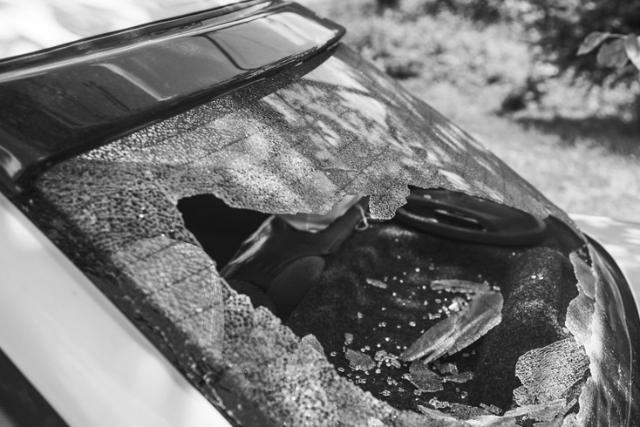Windshield: (48, 51, 615, 427)
